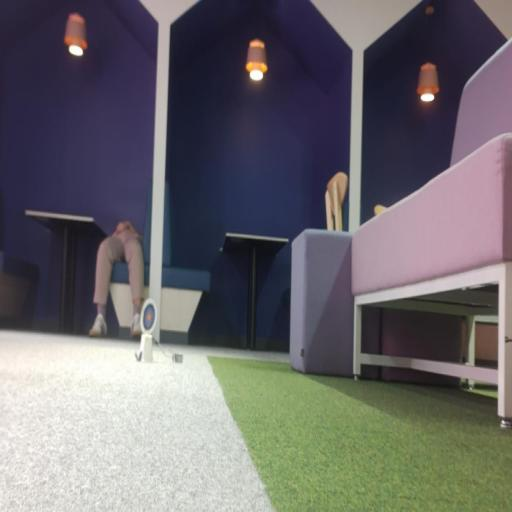target: (140, 299, 157, 336)
